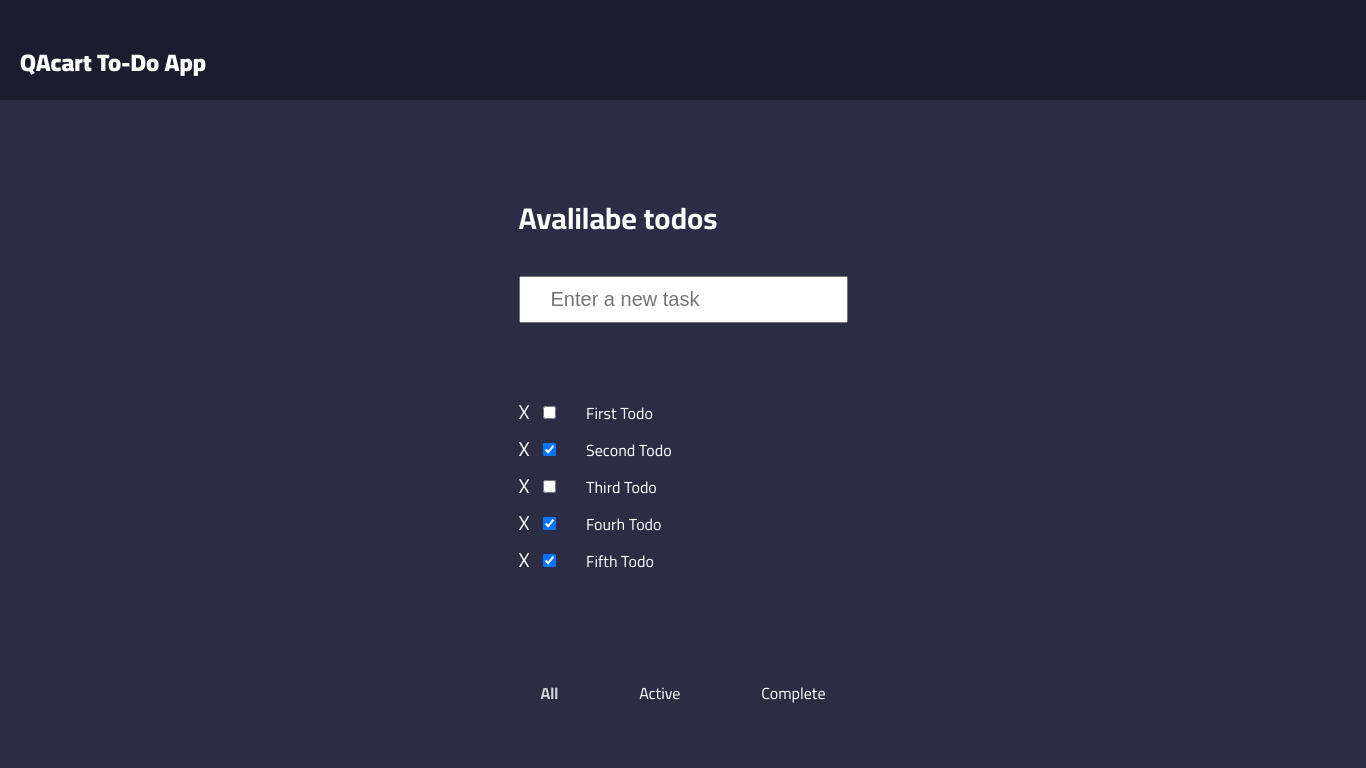
it: Filter functionality test cases › Should filter completed todos
This screenshot has width=1366, height=768.
What coordinates should you click on to do the following:
click the link "Complete"
I would click on:
 (793, 693)
Its box is [759,678,827,708].
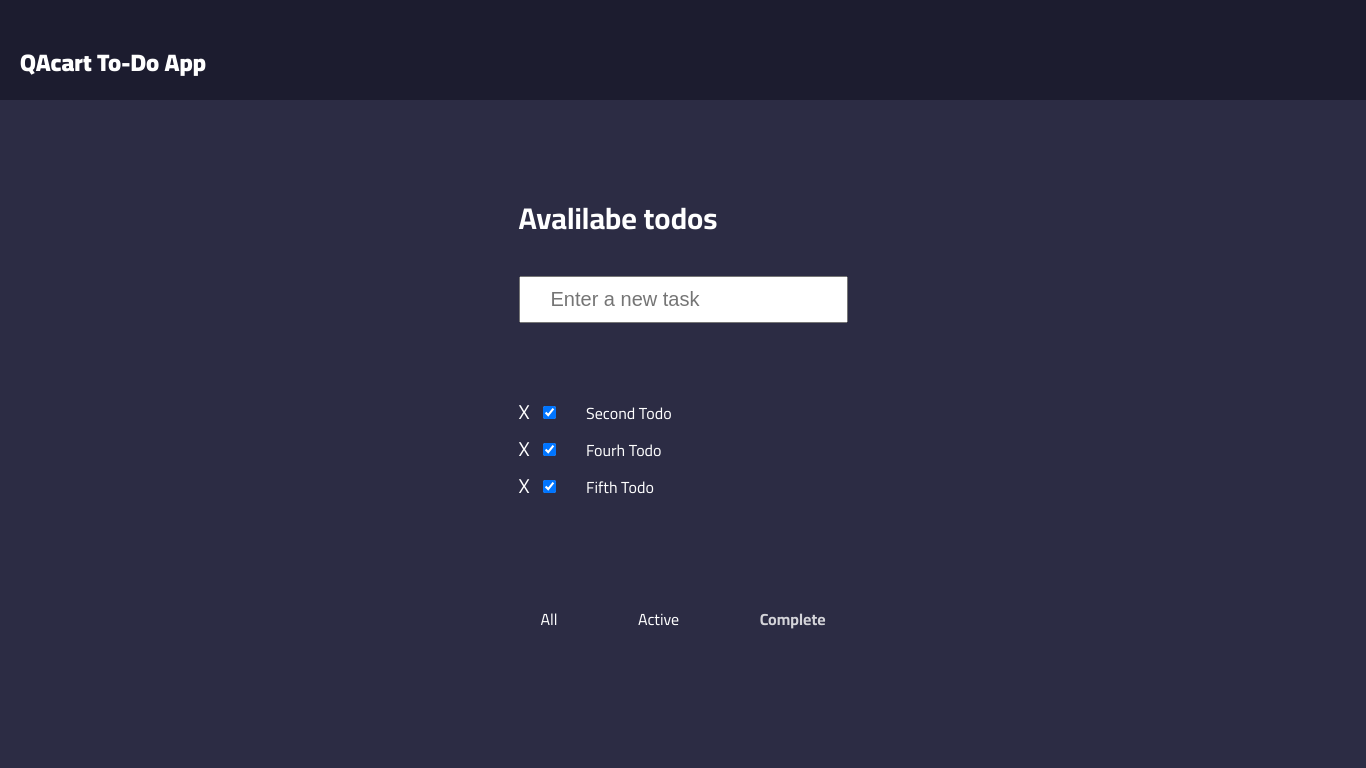
Check: the checkbox with class "todo-checkbox" next to "Fourh Todo" is checked, box [543,443,556,456]
Check: the checkbox with class "todo-checkbox" next to "Second Todo" is checked, box [543,406,556,419]
Check: the checkbox with class "todo-checkbox" next to "Fifth Todo" is checked, box [543,480,556,493]
